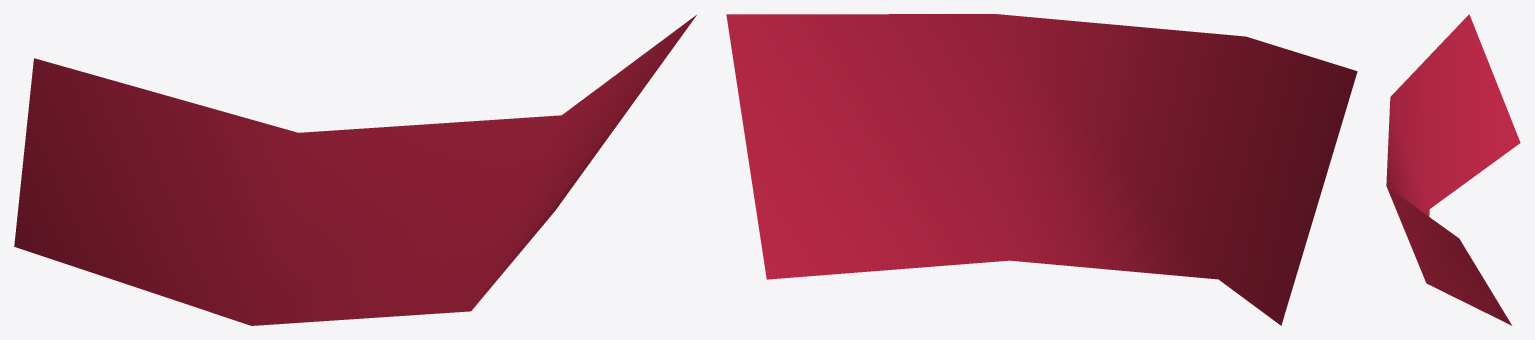
3 renders of one model, left to right at view 1: azimuth 30°, elevation 25°; view 2: azimuth 150°, elevation 25°; view 3: azimuth 270°, elevation 25°, orthographic. The views are drawn at different scales.
Parts seen in each view (by area): view 1: ef_433; view 2: ef_433; view 3: ef_433.
Part boxes in pixels (x1=…): ef_433: x1=14, y1=15, x2=696, y2=325; ef_433: x1=726, y1=14, x2=1357, y2=325; ef_433: x1=1386, y1=14, x2=1520, y2=325.
Size of the model in its own units: 0.8658 by 0.4047 by 0.2931.
1 material, 1 textured.
